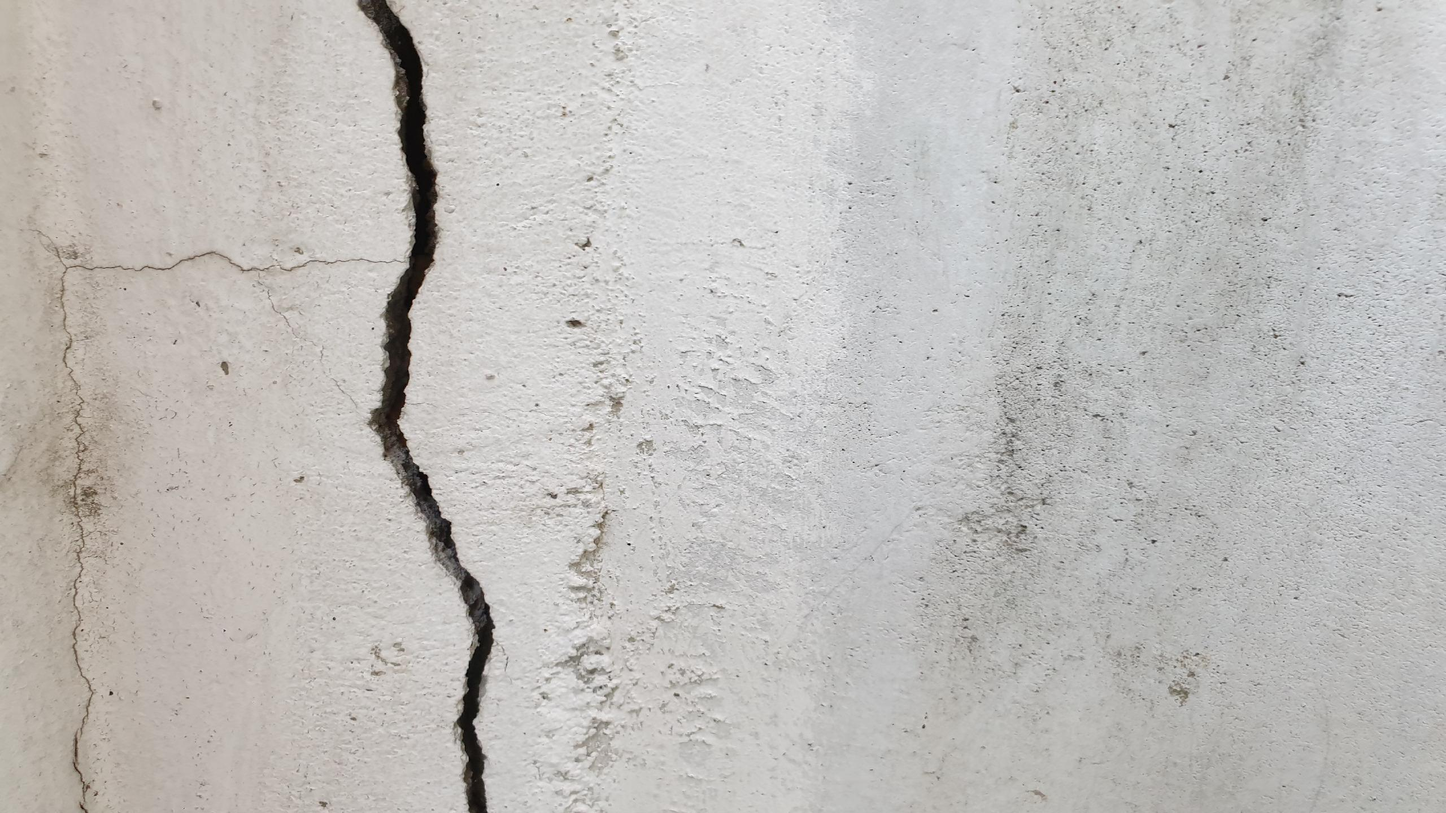crack: (61, 252, 405, 771), (357, 1, 496, 811)
